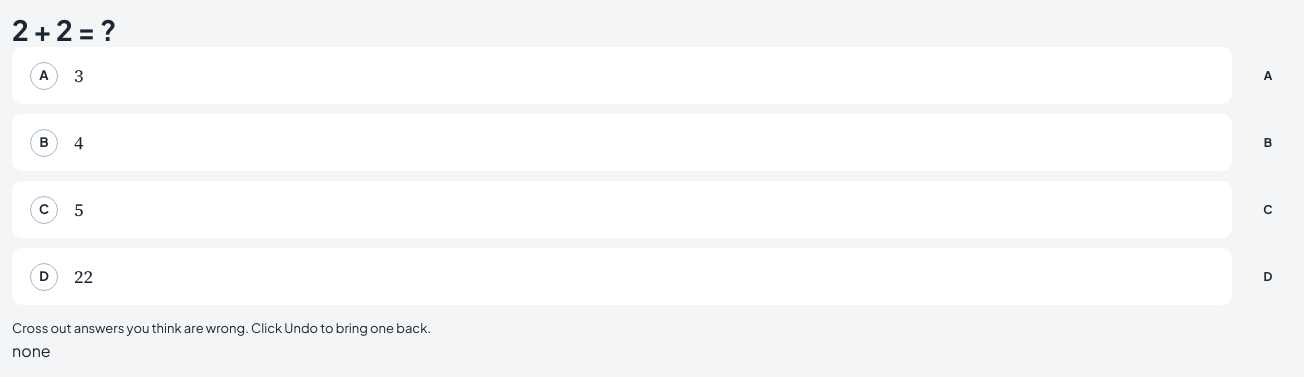
cross out on multiple choice › choosing a crossed-out option un-crosses it
Click the button named "Cross out C" at (1268, 210), box [1244,192,1292,228]
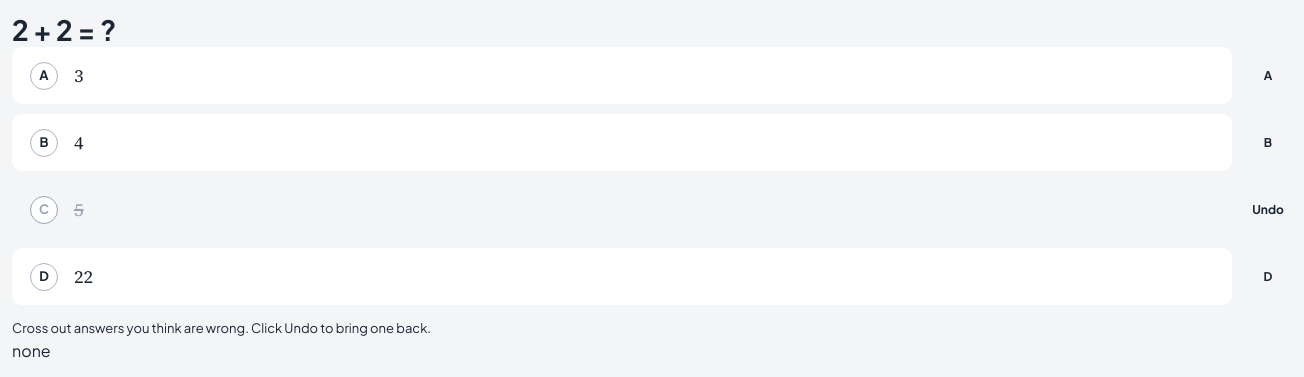
Click the radio button labelled "C 5" at (44, 210), box [12,181,1232,238]
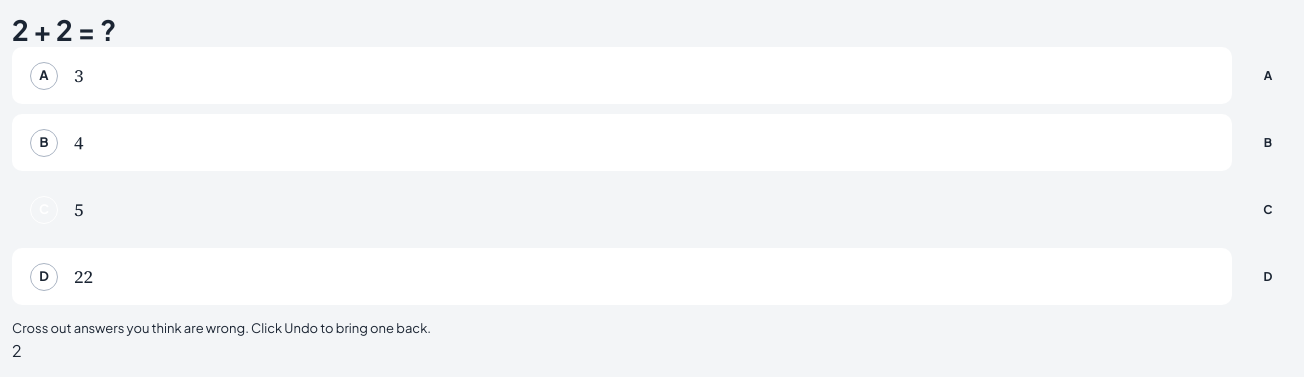
Check: the button named "Cross out C" is shown, box [1244,192,1292,228]
Check: the text with test id "value" reads "2", box [12,340,22,360]
